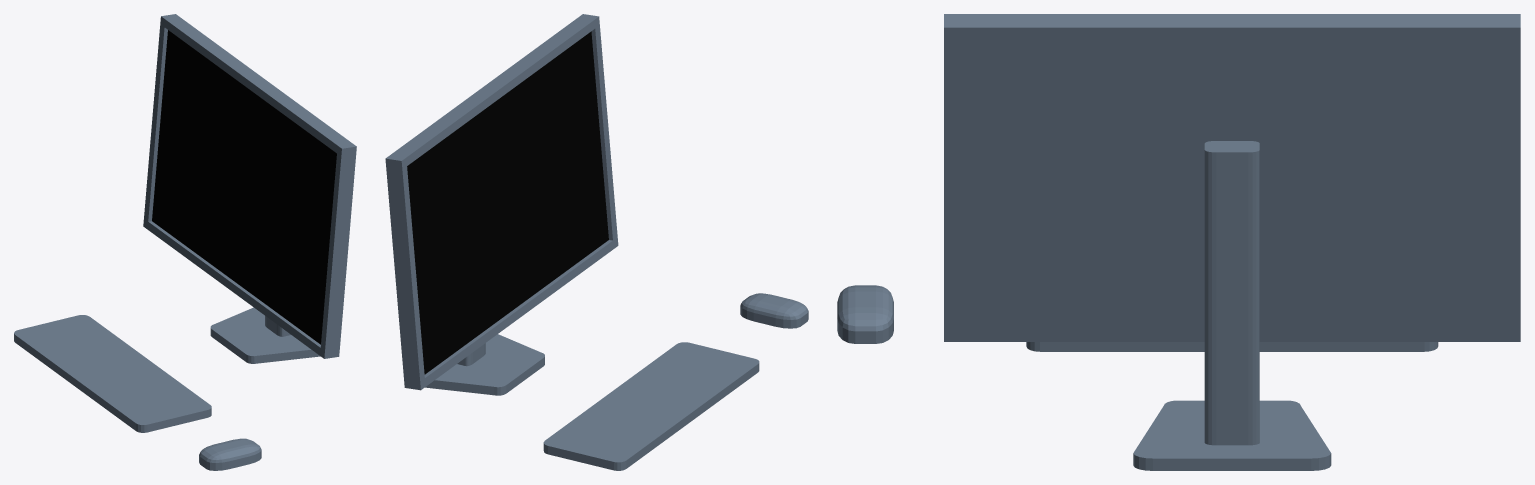
File: HomePCModel.fbx
The picture shows the model from 3 angles, left to right: view 1: azimuth 30°, elevation 25°; view 2: azimuth 150°, elevation 25°; view 3: azimuth 270°, elevation 25°; orthographic projection. The views are drawn at different scales.
Visible parts, largest first — view 1: Monitor, Keyboard, Mouse; view 2: Monitor, Keyboard, Mouse; view 3: Monitor, Keyboard, Mouse.
Boxes of the visible parts, left/top/right/bottom form: Monitor: left=143, top=14, right=356, bottom=363; Keyboard: left=14, top=315, right=211, bottom=432; Mouse: left=199, top=438, right=261, bottom=470; Monitor: left=385, top=14, right=618, bottom=395; Keyboard: left=543, top=342, right=759, bottom=470; Mouse: left=740, top=293, right=808, bottom=328; Monitor: left=944, top=14, right=1520, bottom=470; Keyboard: left=1026, top=342, right=1438, bottom=351; Mouse: left=837, top=285, right=893, bottom=343.
Bounding box in the file's own units: 30.53 × 33.46 × 49.76.
